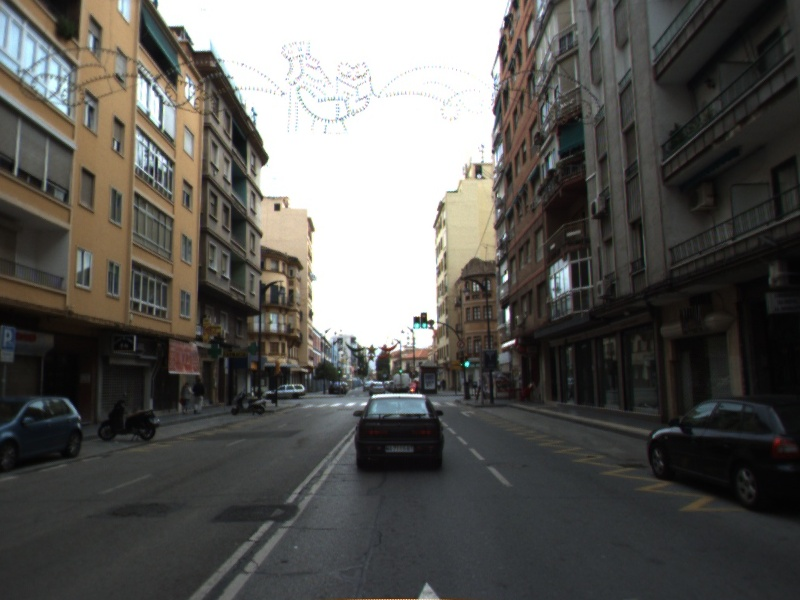RIGHT: (459, 409, 477, 418)
